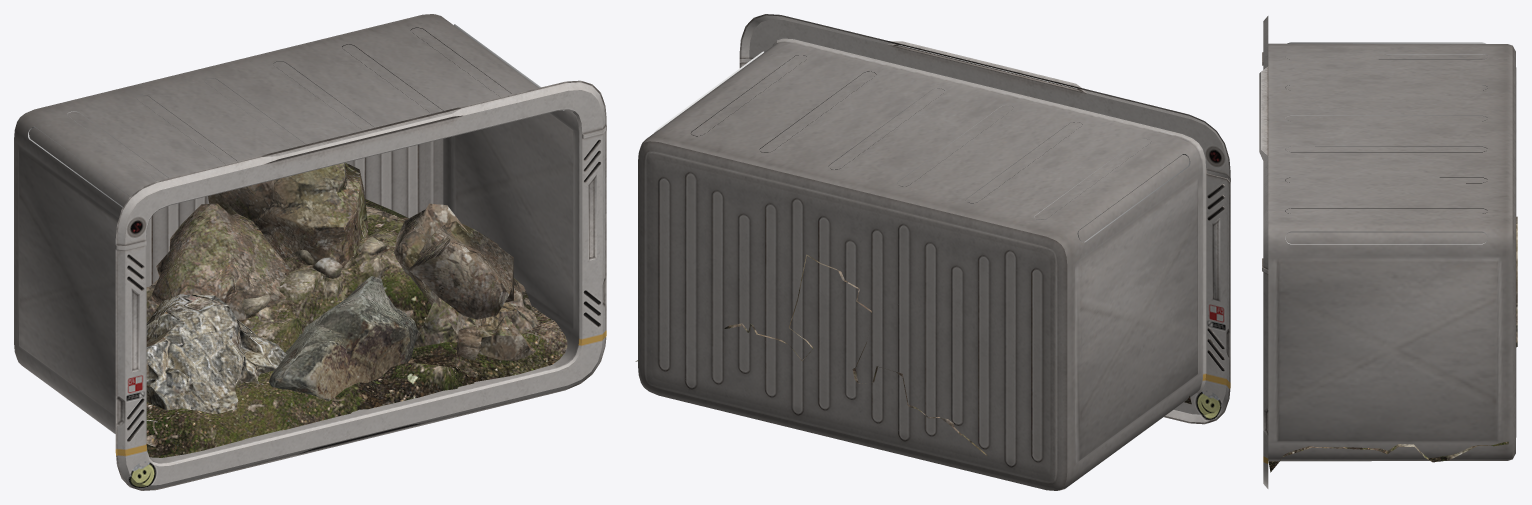
Rendered from Pico_ZWX_R.fbx.
3 views of the same model, side by side, from view 1: azimuth 30°, elevation 25°; view 2: azimuth 150°, elevation 25°; view 3: azimuth 270°, elevation 25° (orthographic). The views are drawn at different scales.
Visible parts, largest first — view 1: Pico_ZWX, Pico_DT1; view 2: Pico_ZWX, Pico_DT1; view 3: Pico_ZWX, Pico_DT1.
Part boxes in pixels (x1,y1,x2,y2): Pico_ZWX: [14, 14, 606, 490]; Pico_DT1: [28, 24, 564, 207]; Pico_ZWX: [635, 14, 1230, 490]; Pico_DT1: [654, 45, 1190, 242]; Pico_ZWX: [1259, 16, 1517, 488]; Pico_DT1: [1285, 42, 1487, 244].
Bounding box in the file's own units: 249 × 150 × 123.
